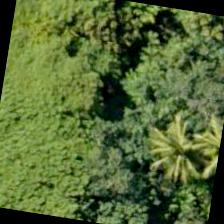Kelapa_Sawit: (132, 100, 223, 202)
